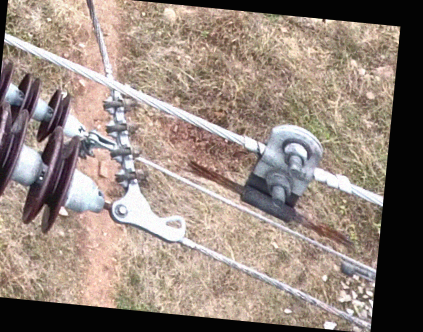damper_defect: (183, 119, 358, 251)
